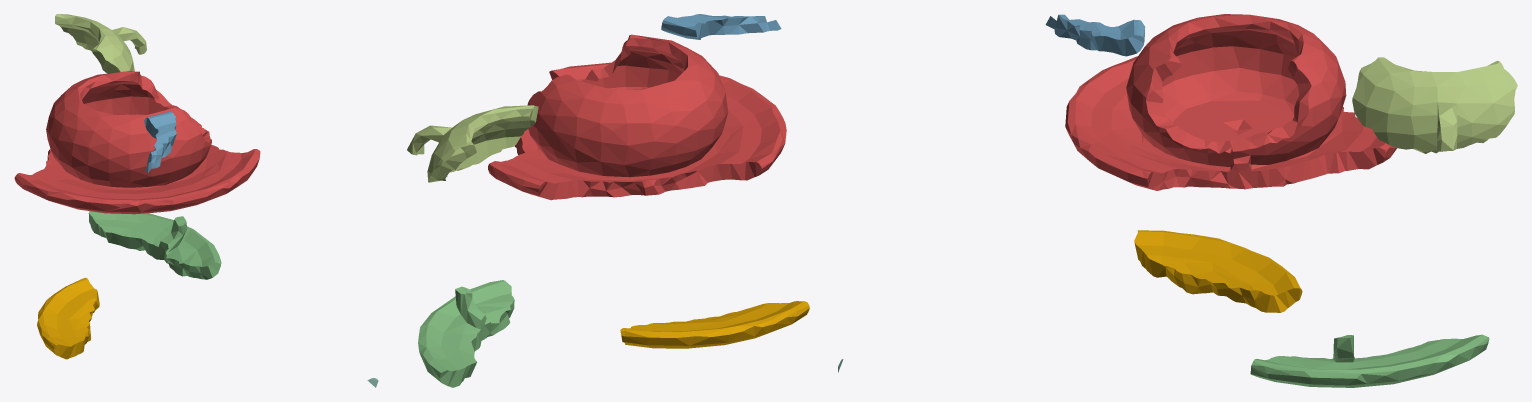
The model's file is mode_7_6pcs_transformed.glb.
3 views of the same model, side by side, from view 1: azimuth 30°, elevation 25°; view 2: azimuth 150°, elevation 25°; view 3: azimuth 270°, elevation 25° (orthographic). The views are drawn at different scales.
Visible parts, largest first — view 1: piece_1.obj, piece_3.obj, piece_0.obj, piece_7.obj, piece_10.obj; view 2: piece_1.obj, piece_3.obj, piece_7.obj, piece_0.obj, piece_10.obj; view 3: piece_1.obj, piece_7.obj, piece_0.obj, piece_3.obj, piece_10.obj.
Part boxes in pixels (x1,y1,x2,y2): piece_1.obj: [14, 71, 260, 214]; piece_3.obj: [88, 211, 221, 279]; piece_0.obj: [37, 277, 99, 359]; piece_7.obj: [55, 14, 146, 73]; piece_10.obj: [144, 111, 176, 172]; piece_1.obj: [488, 34, 786, 200]; piece_3.obj: [418, 280, 514, 387]; piece_7.obj: [407, 105, 538, 182]; piece_0.obj: [620, 301, 809, 348]; piece_10.obj: [661, 14, 781, 39]; piece_1.obj: [1065, 14, 1396, 190]; piece_7.obj: [1352, 57, 1517, 153]; piece_0.obj: [1134, 230, 1302, 312]; piece_3.obj: [1250, 334, 1489, 387]; piece_10.obj: [1045, 14, 1145, 56].
Bounding box in the file's own units: 1 × 0.9543 × 1.98.
